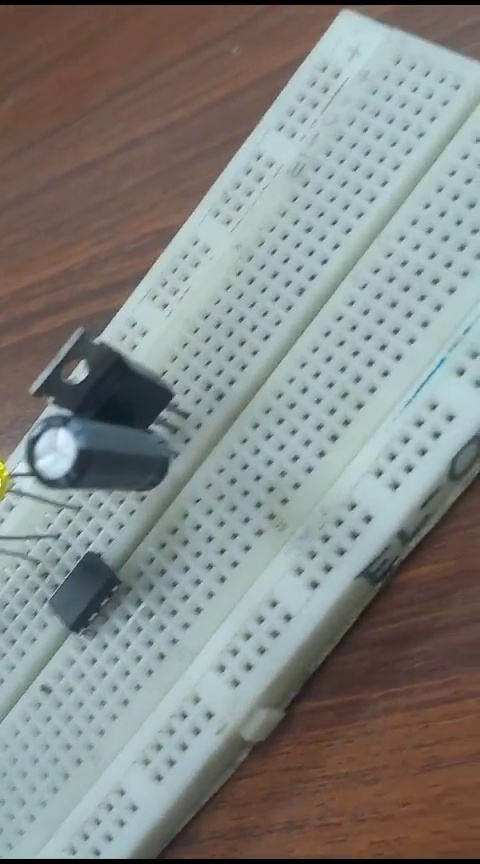IC: (28, 564, 114, 623)
capacitor: (22, 411, 176, 493)
voltage regulator: (34, 301, 186, 424)
